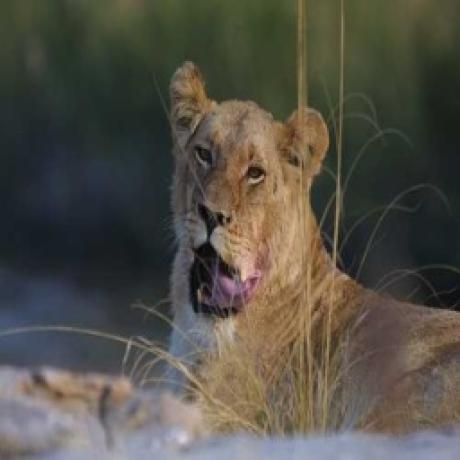Lion: (161, 61, 460, 435)
